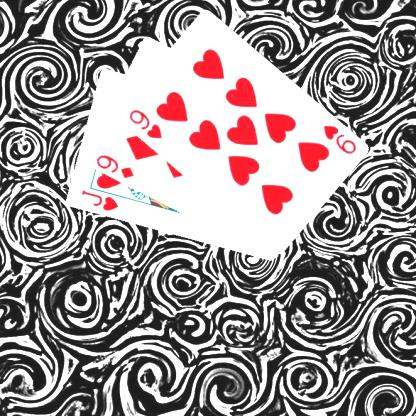9D: (93, 152, 135, 180)
9H: (126, 106, 162, 141), (320, 122, 357, 156)
JH: (78, 188, 119, 212)
